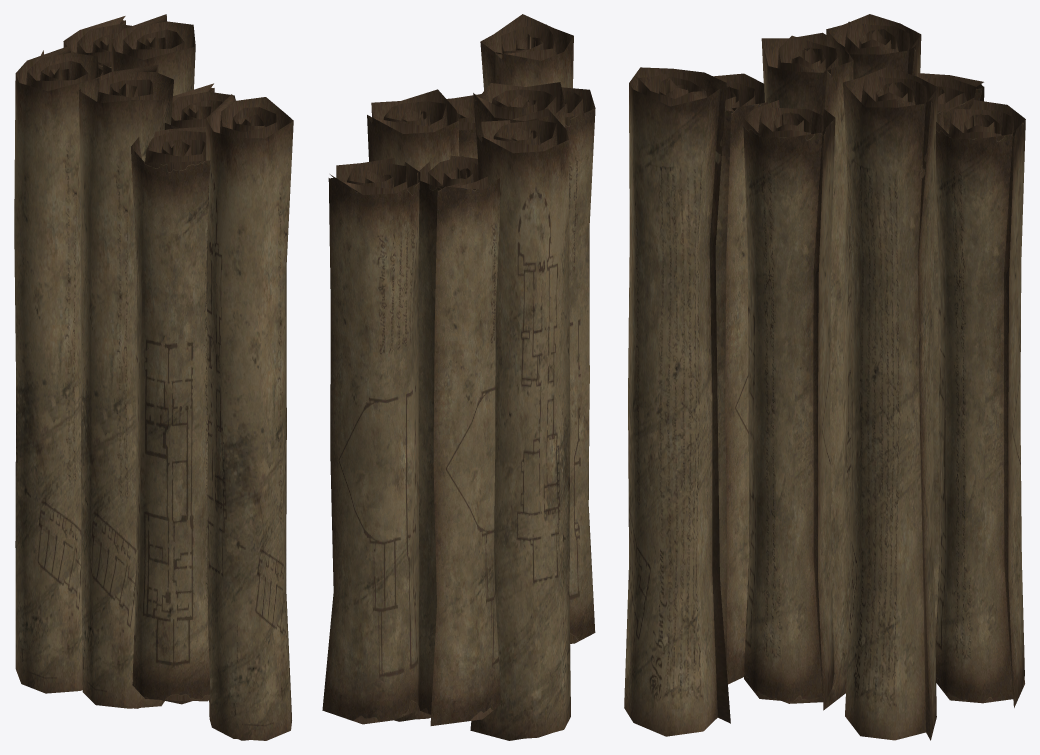
The model's file is sketch_roll_row02.dae.
The picture shows the model from 3 angles, left to right: view 1: azimuth 30°, elevation 25°; view 2: azimuth 150°, elevation 25°; view 3: azimuth 270°, elevation 25°; orthographic projection. The views are drawn at different scales.
Visible parts, largest first — view 1: Cylinder_006; view 2: Cylinder_006; view 3: Cylinder_006.
Part boxes in pixels (x1=…): Cylinder_006: x1=14, y1=14, x2=293, y2=740; Cylinder_006: x1=322, y1=14, x2=595, y2=740; Cylinder_006: x1=624, y1=14, x2=1025, y2=740.
Bounding box in the file's own units: 0.5417 × 1.71 × 0.9613.
